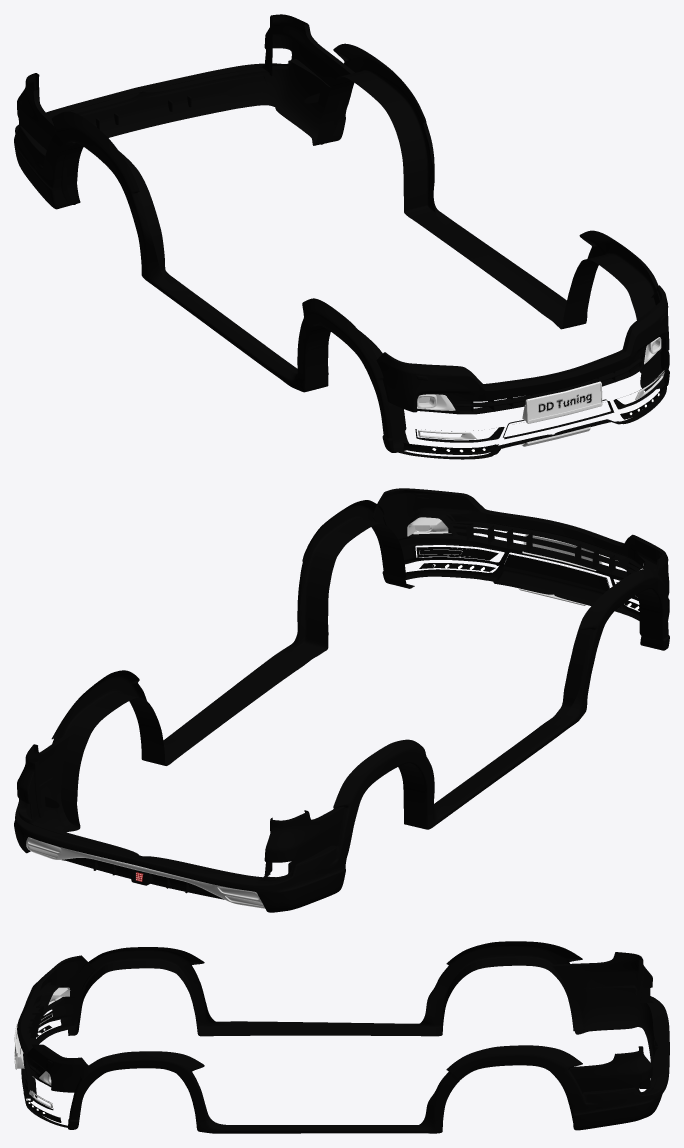
File: юбкаwald.glb
The picture shows the model from 3 angles, top to bottom: view 1: azimuth 30°, elevation 25°; view 2: azimuth 150°, elevation 25°; view 3: azimuth 270°, elevation 25°; orthographic projection. The views are drawn at different scales.
Visible parts, largest first — view 1: car, black, numberplate, chrome; view 2: car, black, chrome; view 3: car, black, chrome.
Part boxes in pixels (box(x1,y1,x2,y2)): car: box(14, 14, 669, 459); black: box(95, 95, 663, 452); numberplate: box(525, 381, 602, 423); chrome: box(417, 337, 664, 446); car: box(14, 488, 669, 912); black: box(62, 513, 655, 899); chrome: box(26, 517, 643, 908); car: box(17, 941, 669, 1133); black: box(24, 985, 658, 1117); chrome: box(16, 987, 70, 1107).
Size of the model in its own units: 2.37 by 0.8725 by 5.94.
Materials: 8 (1 with a texture image).
